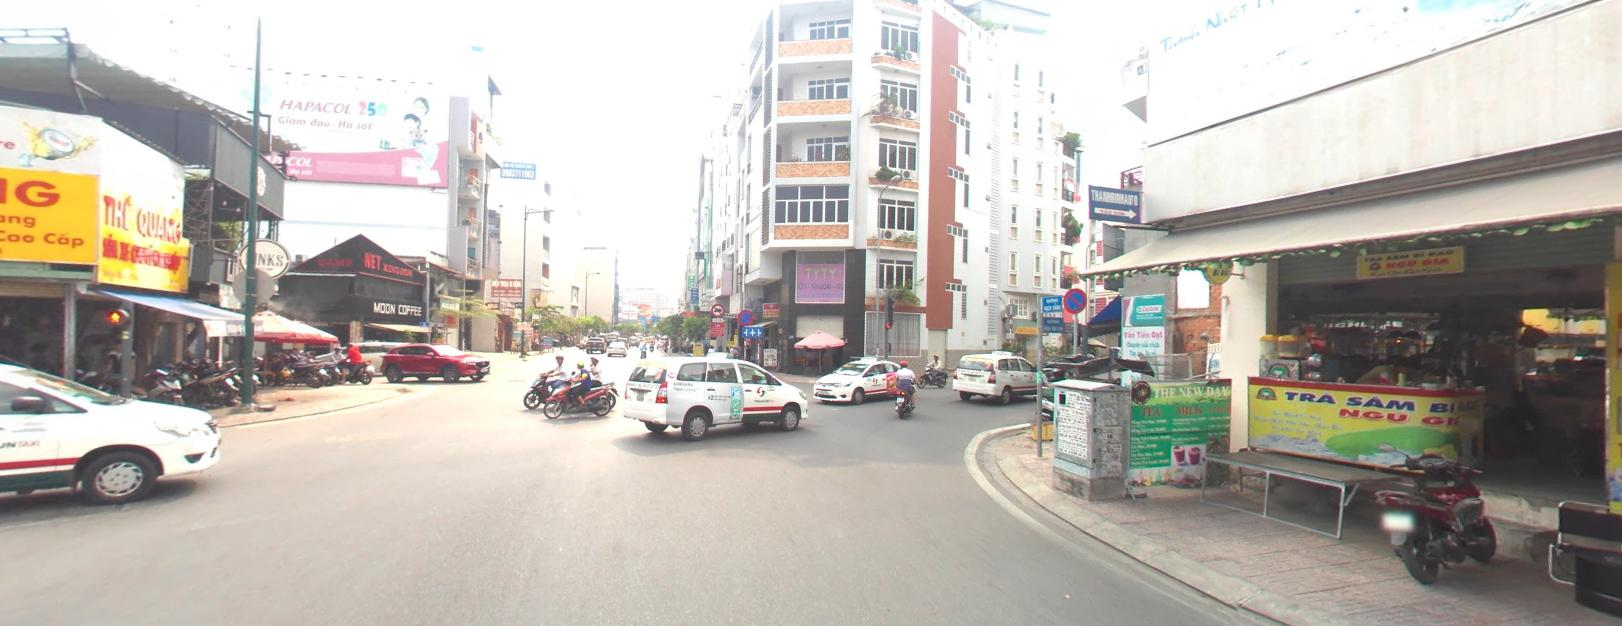Cam con lai: (710, 301, 724, 315)
Cam dung va do: (1062, 285, 1086, 311), (737, 308, 753, 324)
